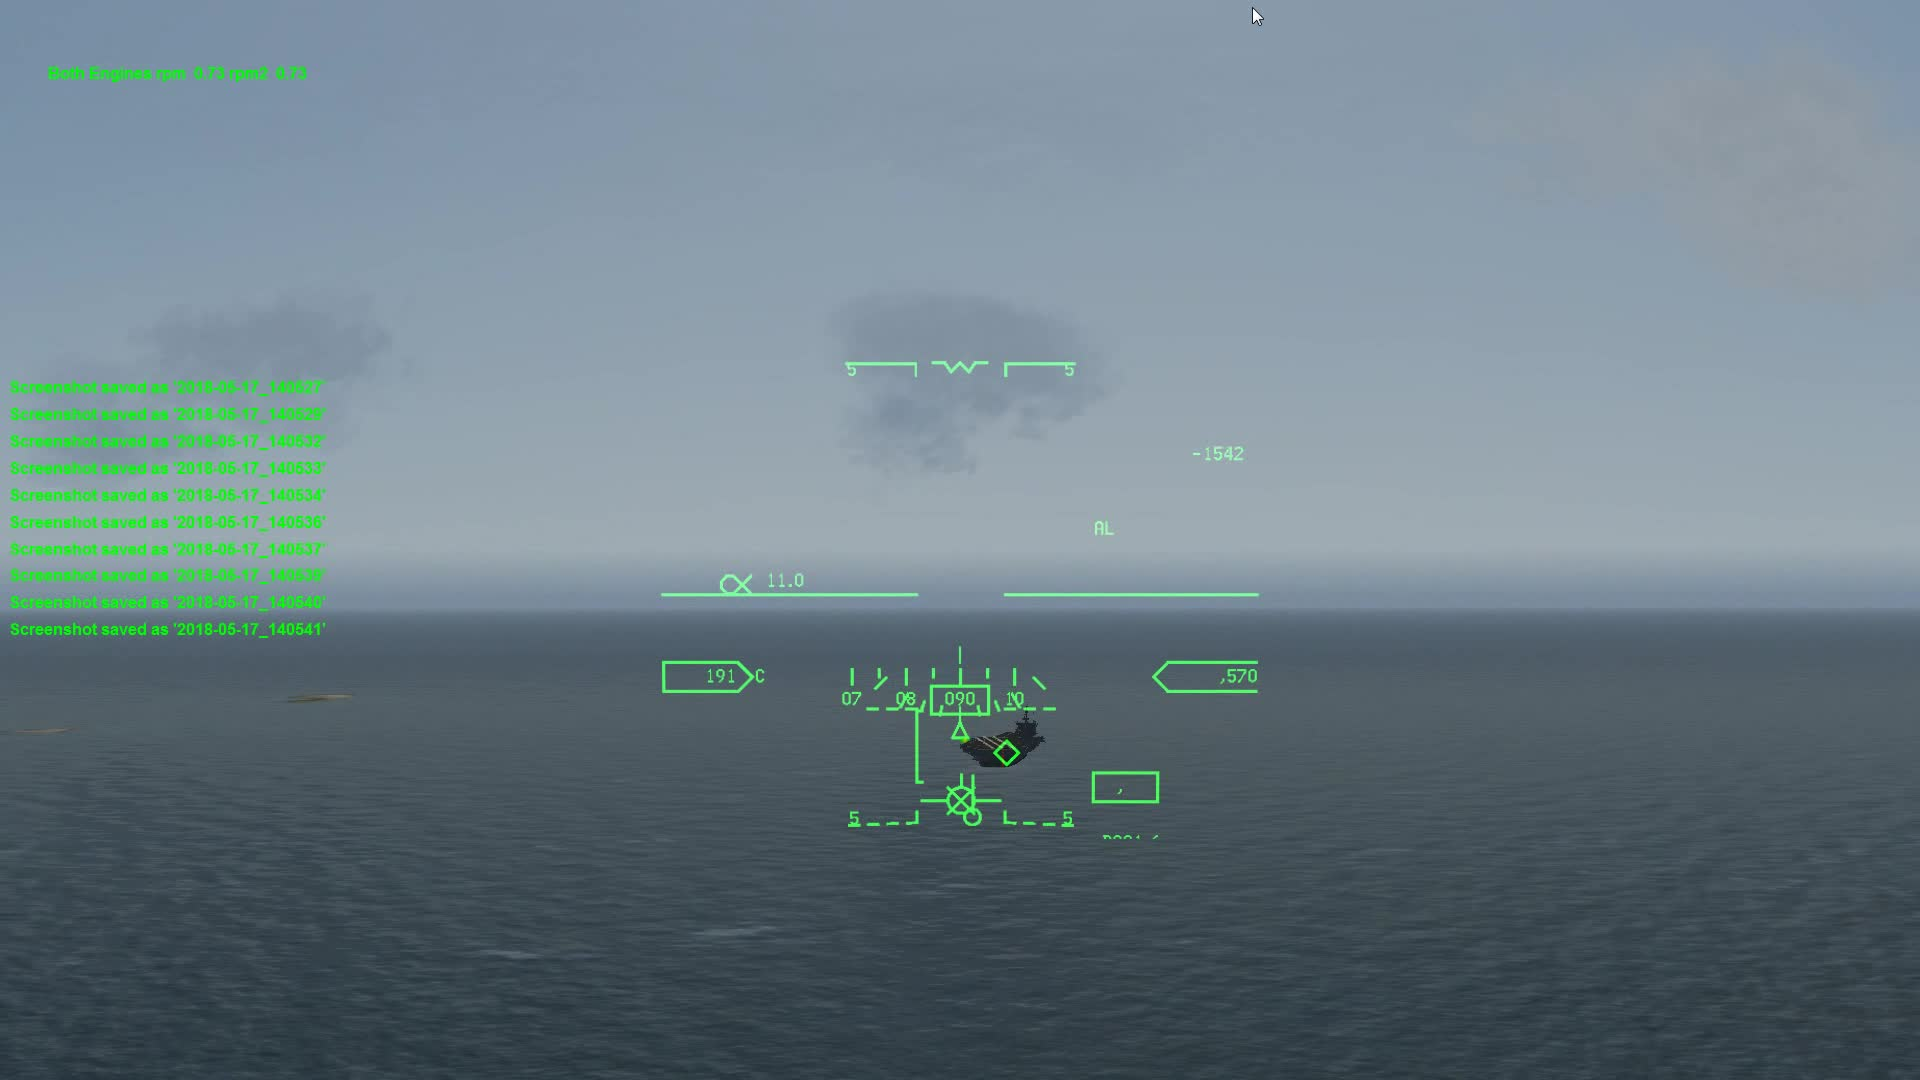speed vector: (913, 771, 1004, 816)
